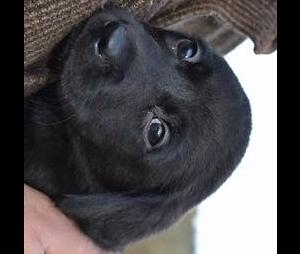dog: (24, 3, 254, 254)
